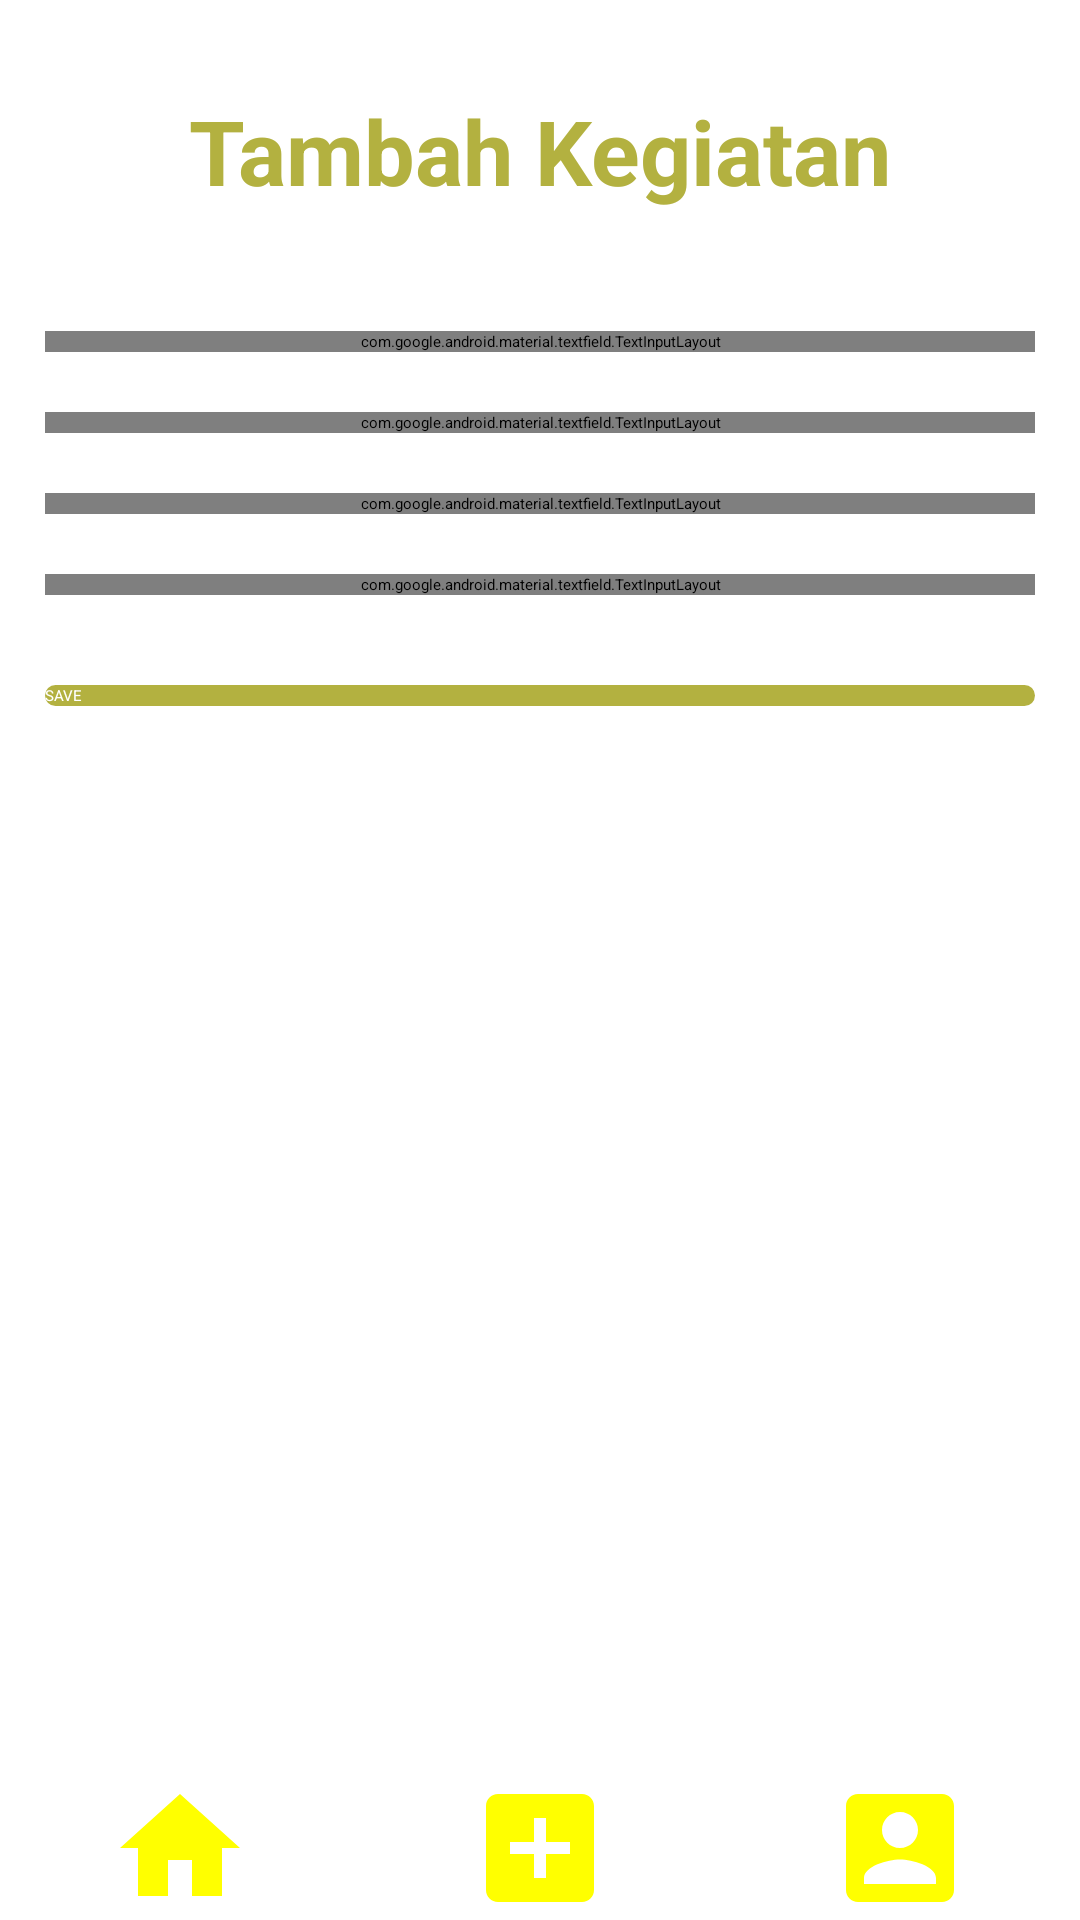

Where to tap for icons on this 1080 × 1920 app screen, as [x,y]:
account: [900,1848]
add: [540,1848]
home: [180,1845]
